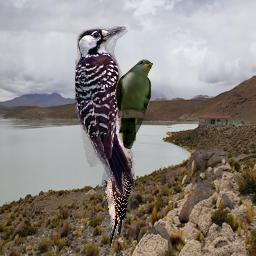Cuckoo: (115, 59, 153, 149)
Woodpecker: (75, 26, 135, 196), (102, 153, 134, 250)
